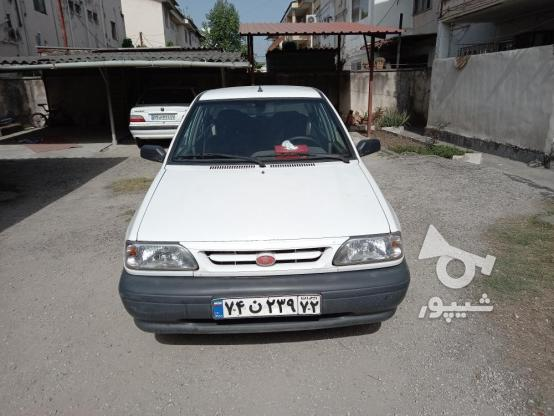car: (212, 298, 320, 317), (152, 113, 174, 118)
